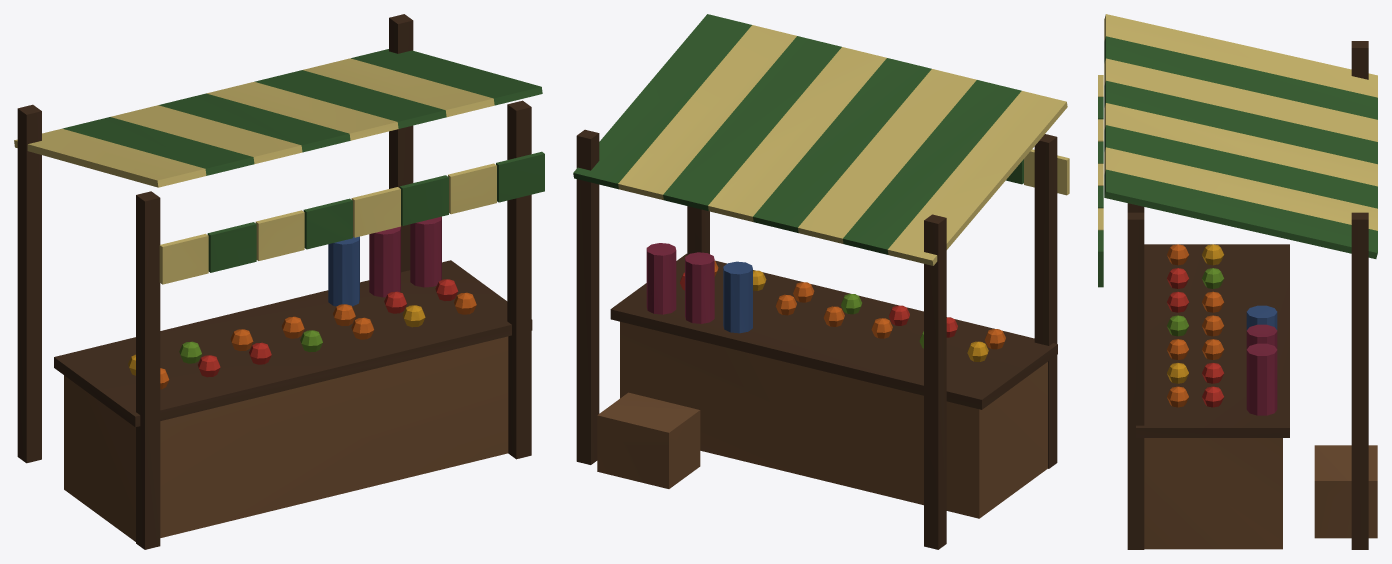
The model's file is stall-green.glb.
3 renders of one model, left to right at view 1: azimuth 30°, elevation 25°; view 2: azimuth 150°, elevation 25°; view 3: azimuth 270°, elevation 25°, orthographic. The views are drawn at different scales.
Parts seen in each view (by area): view 1: stall-green; view 2: stall-green; view 3: stall-green.
Part boxes in pixels (<box>): stall-green: <box>14,14,544,549</box>; stall-green: <box>573,14,1069,549</box>; stall-green: <box>1098,14,1377,549</box>.
Bounding box in the file's own units: 3.1 × 2.82 × 2.
